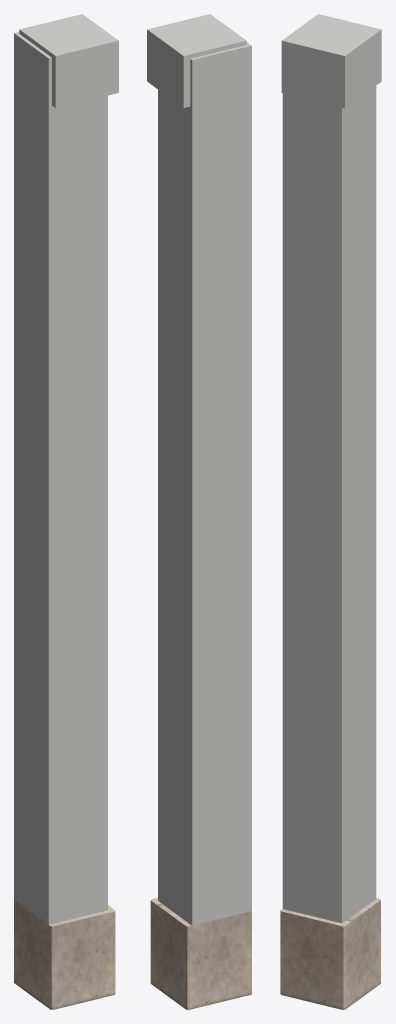
File: nave_corner.glb
3 views of the same model, side by side, from view 1: azimuth 30°, elevation 25°; view 2: azimuth 210°, elevation 25°; view 3: azimuth 330°, elevation 25° (orthographic).
Parts seen in each view (by area): view 1: nave_corner_trim, nave_corner_stone; view 2: nave_corner_trim, nave_corner_stone; view 3: nave_corner_trim, nave_corner_stone.
Part boxes in pixels (<box>): nave_corner_trim: <box>14,14,118,924</box>; nave_corner_stone: <box>14,899,115,1009</box>; nave_corner_trim: <box>147,14,251,925</box>; nave_corner_stone: <box>150,897,251,1009</box>; nave_corner_trim: <box>281,14,381,923</box>; nave_corner_stone: <box>280,898,380,1009</box>.
Bounding box in the file's own units: 0.4 × 5.49 × 0.4.
Materials: 2 (1 with a texture image).
